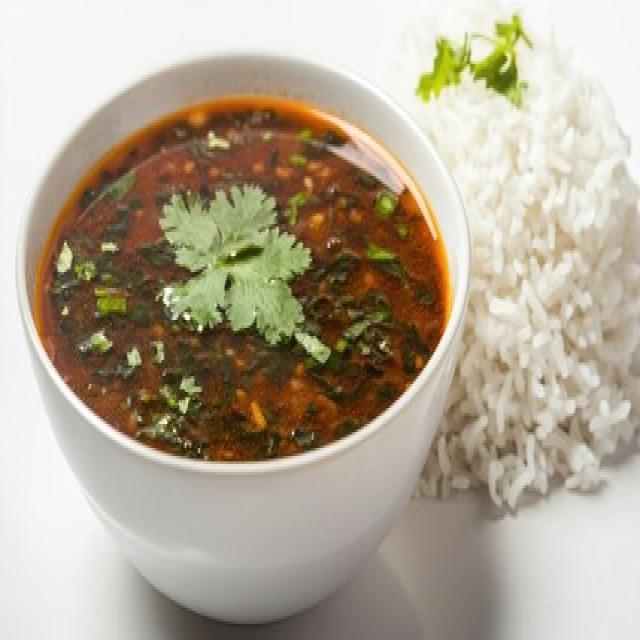RASAM: (36, 109, 448, 459)
RICE: (389, 3, 639, 509)
